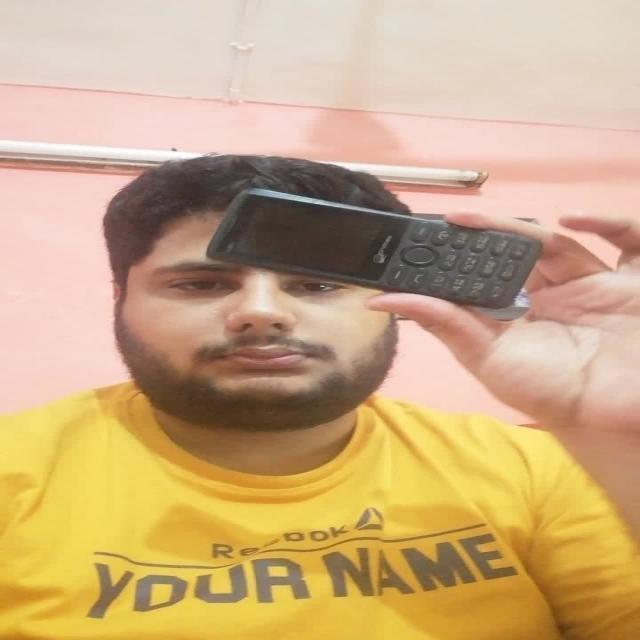phone: (203, 186, 541, 312)
